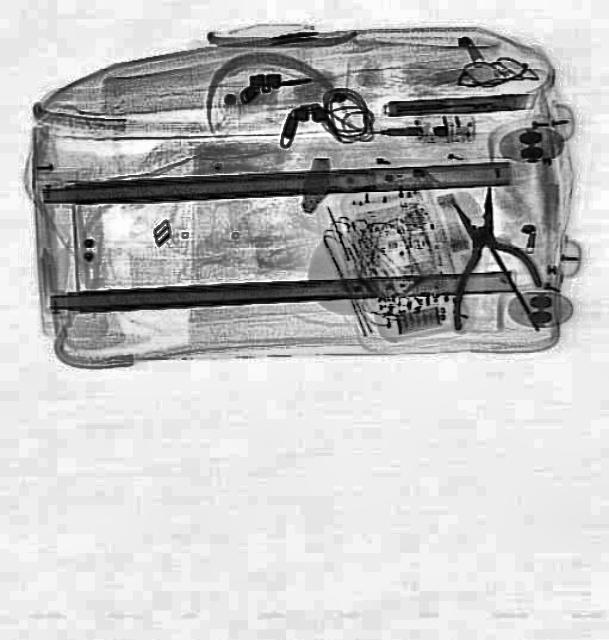Pliers: (413, 176, 549, 332)
